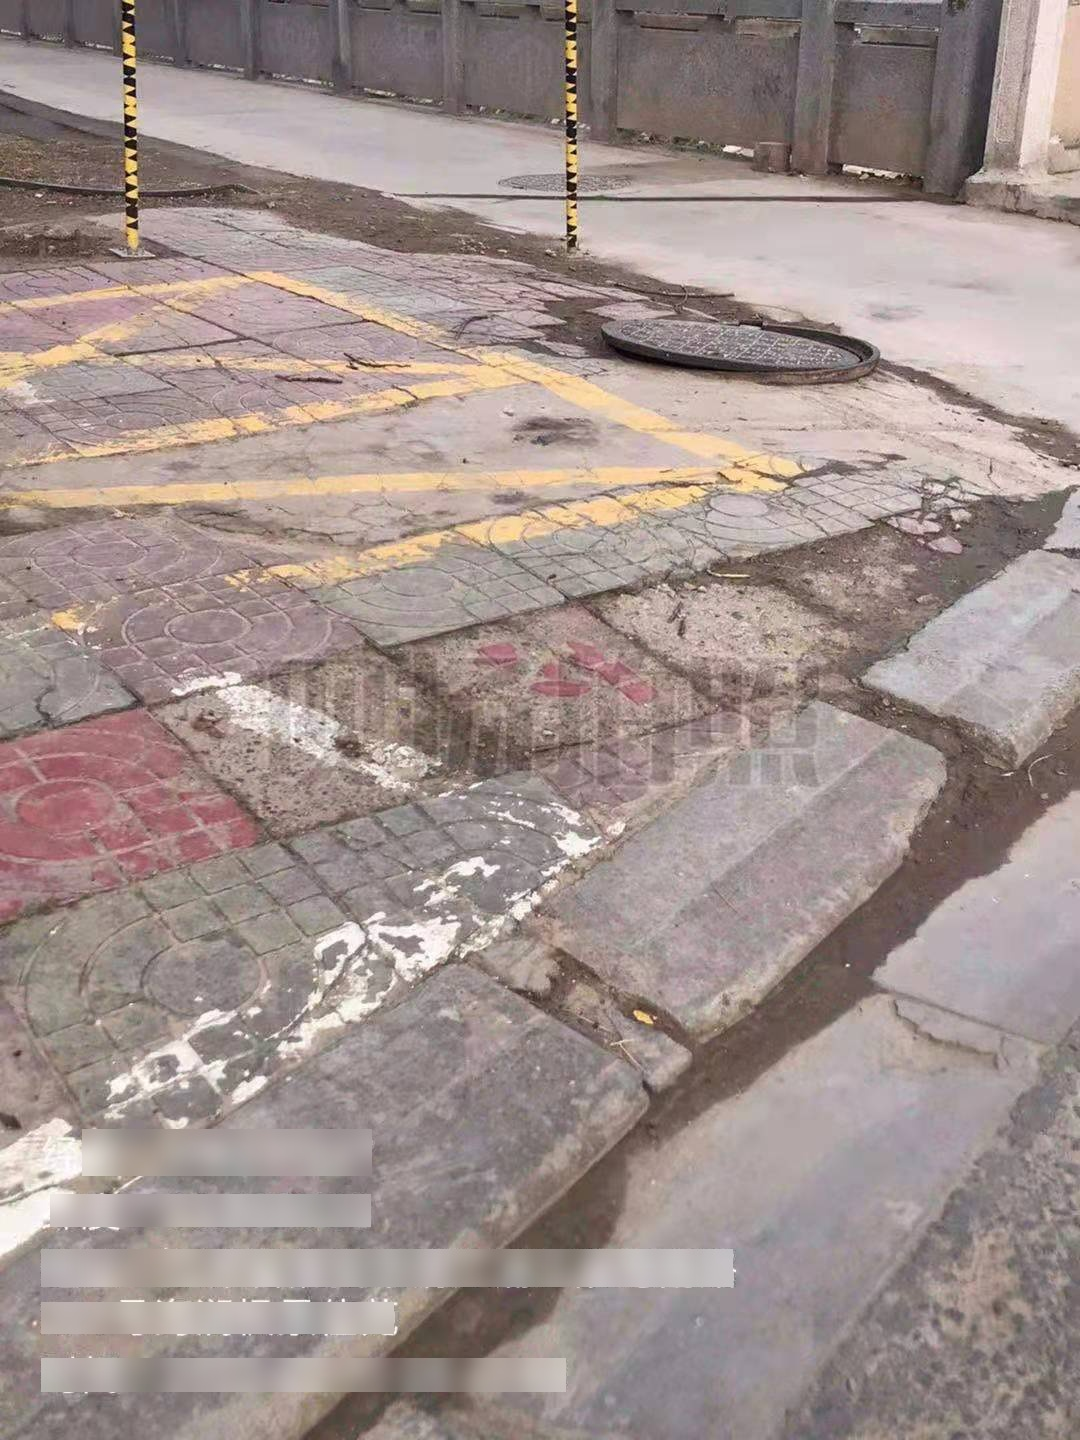uncovered: (565, 278, 898, 401)
